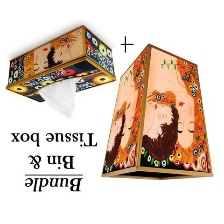tissue: (30, 72, 87, 124)
